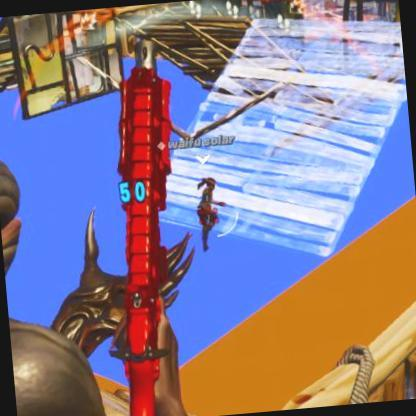person: (192, 177, 226, 258)
